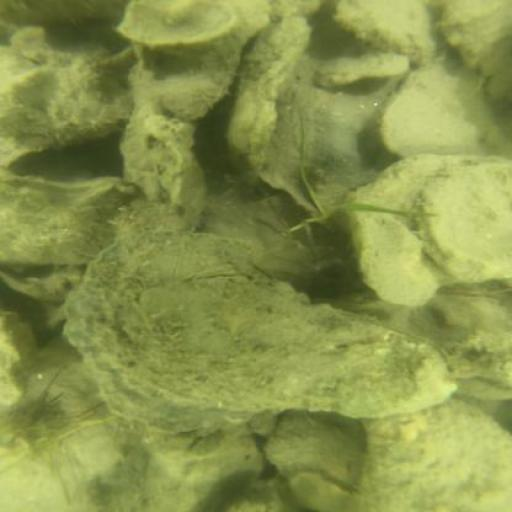Oyster-Closed: (106, 270, 461, 419), (62, 237, 257, 439), (359, 404, 512, 512), (150, 1, 271, 123), (233, 18, 311, 187), (383, 56, 510, 155), (426, 161, 509, 281), (356, 213, 438, 309), (438, 1, 512, 103), (270, 416, 367, 491), (336, 1, 437, 67)
